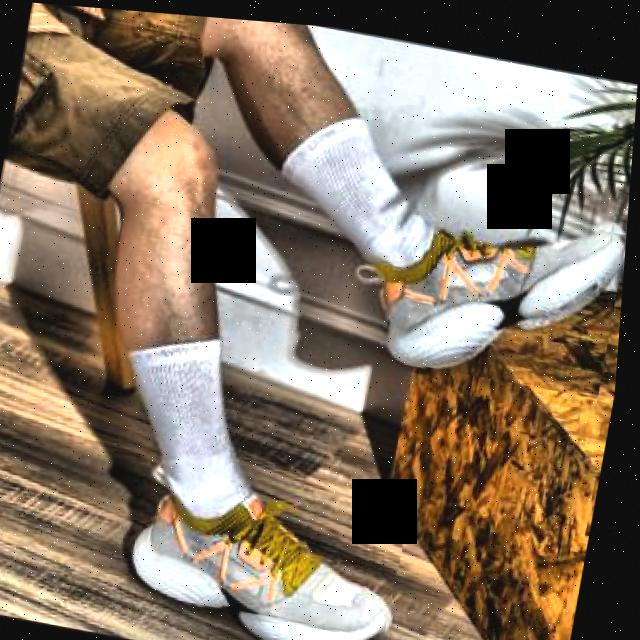shoe: (368, 173, 631, 389), (127, 454, 419, 640)
